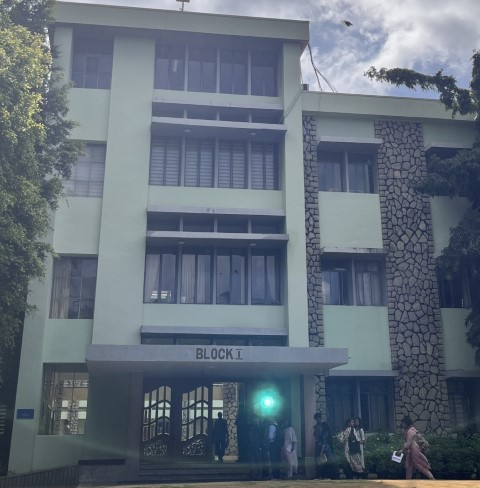Block 1: (52, 6, 448, 488)
